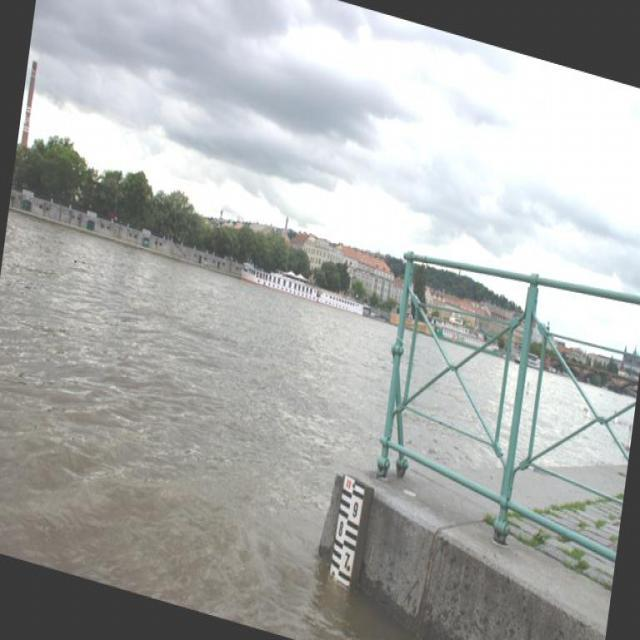flood: (0, 187, 404, 639)
